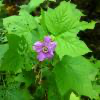Raspberry leaf: (44, 3, 100, 59), (53, 55, 99, 99), (0, 30, 35, 74)
